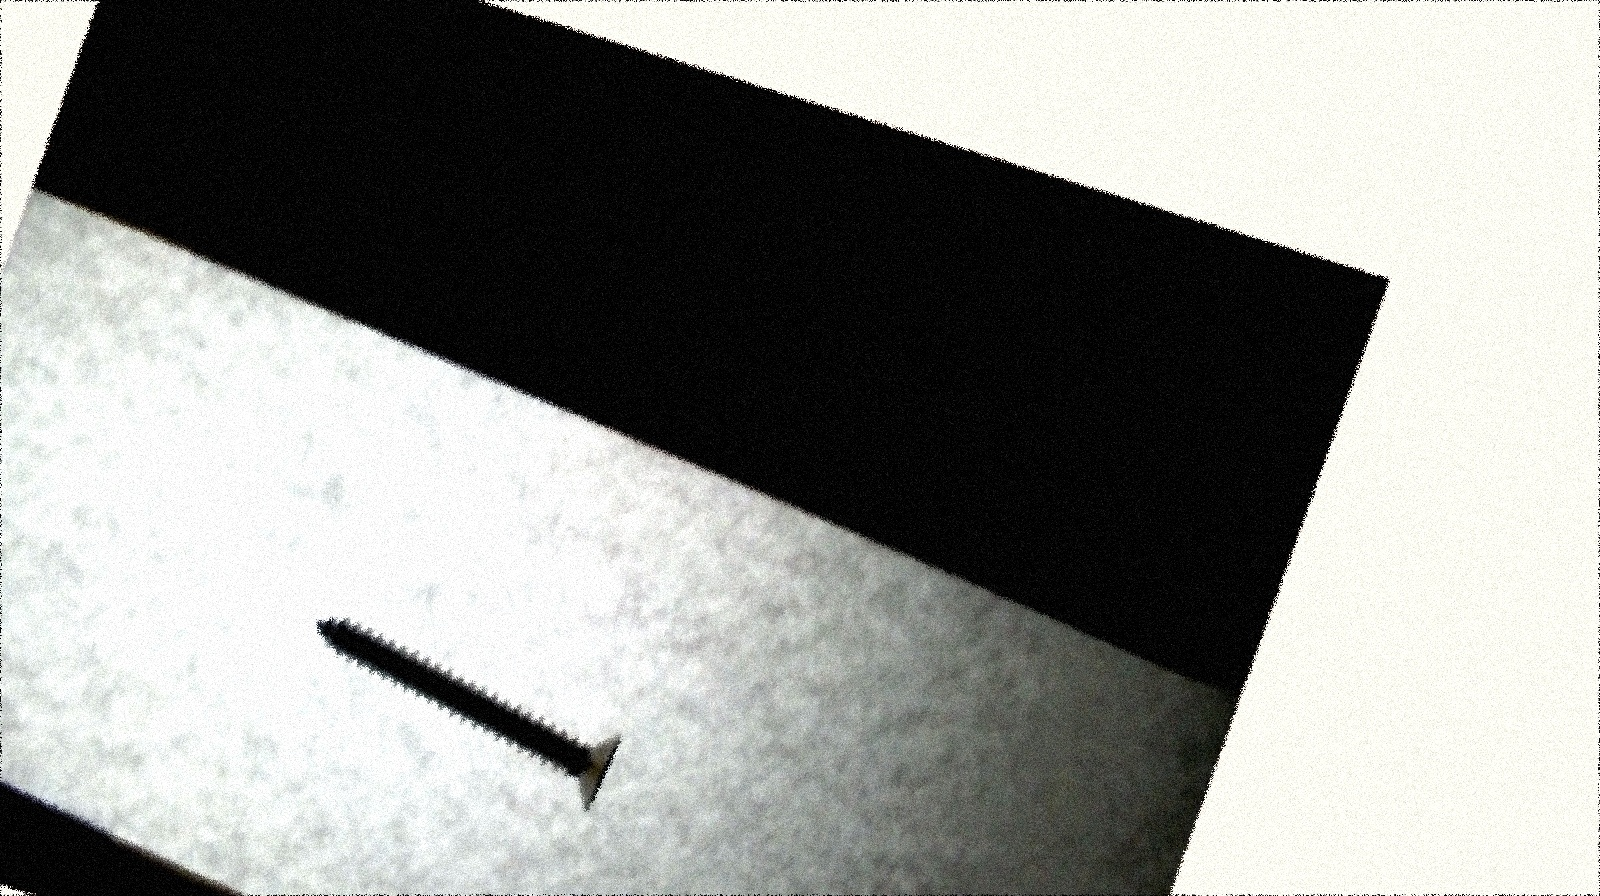S002: (262, 585, 655, 828)
